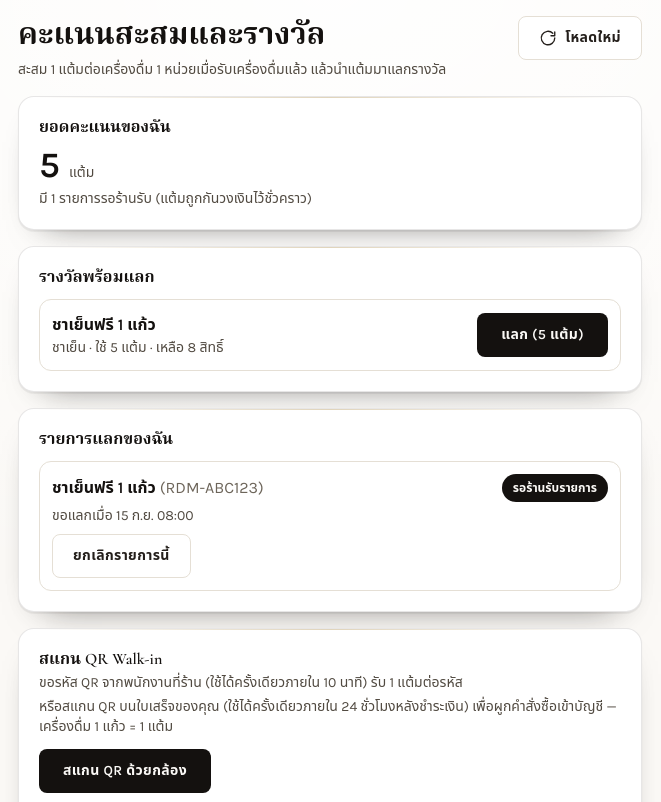
Test: หน้าคะแนนสะสมและรางวัลของลูกค้า (ภาษาไทย) › แลกสำเร็จแสดงรหัสอ้างอิง
Expected: the heading "คะแนนสะสมและรางวัล" is shown, [18,16,326,53]
Click the button with aria-label "แลก ชาเย็นฟรี 1 แก้ว". click: [543, 335]
box: [477,313,608,357]
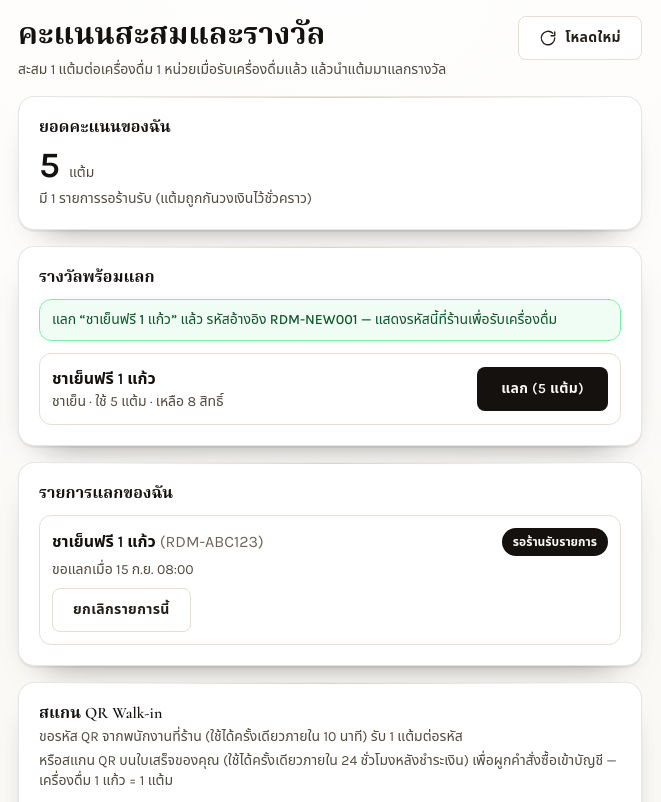
Now the text "RDM-NEW001" is shown, box [52,310,557,328]
